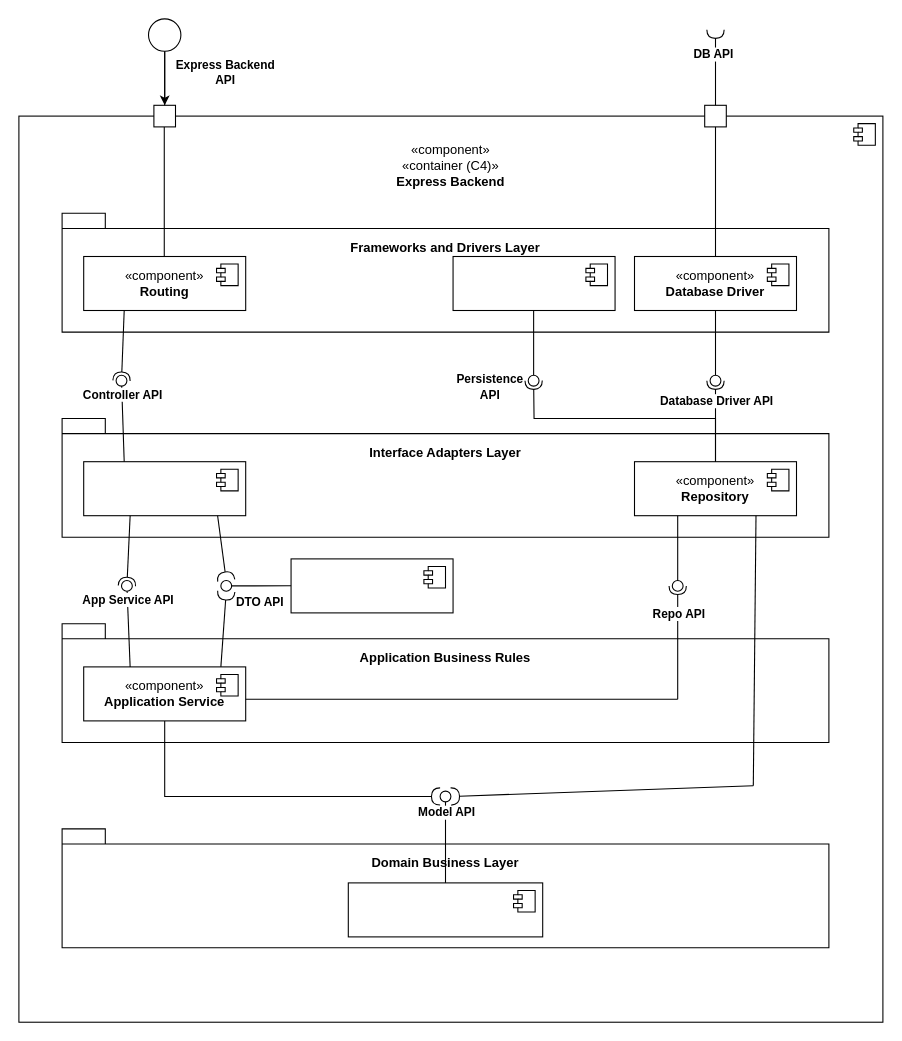
Some shapes in this 902 by 1041 pixel diagram are drawn without their labels. The shapes that lost their labels are listed below. From the top down, each one's box as (x1, y1, x2, y2) in pixels, then its label:
(452, 255, 615, 310): «component» Persistence
(83, 461, 246, 516): «component» Controller
(290, 558, 453, 613): «component» DTO
(347, 882, 543, 937): «component» Domain Model (DDD)
